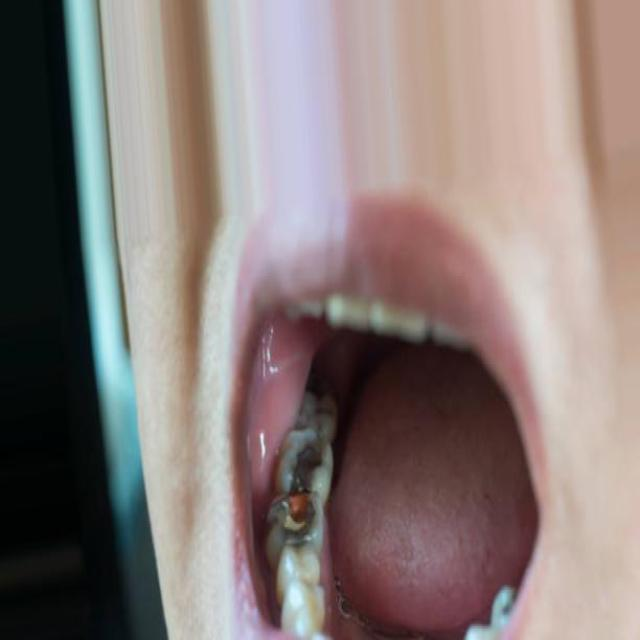caries: (271, 419, 333, 498), (263, 490, 329, 556)
